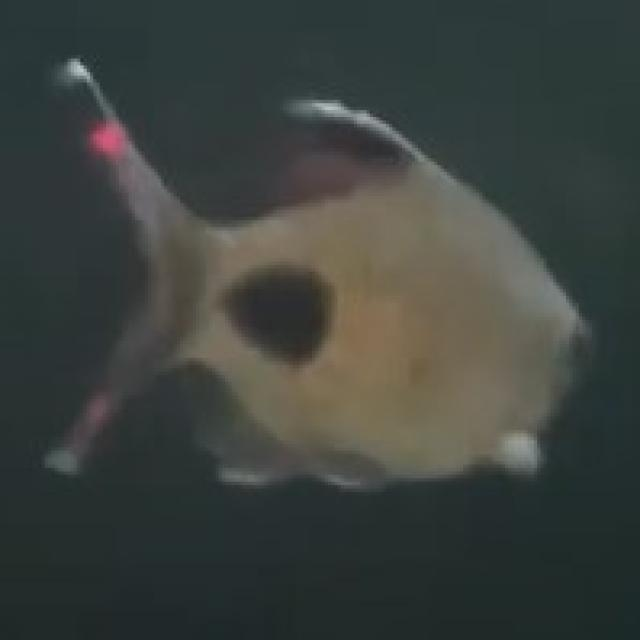Black-Spotted-Barb: (32, 29, 607, 566)
